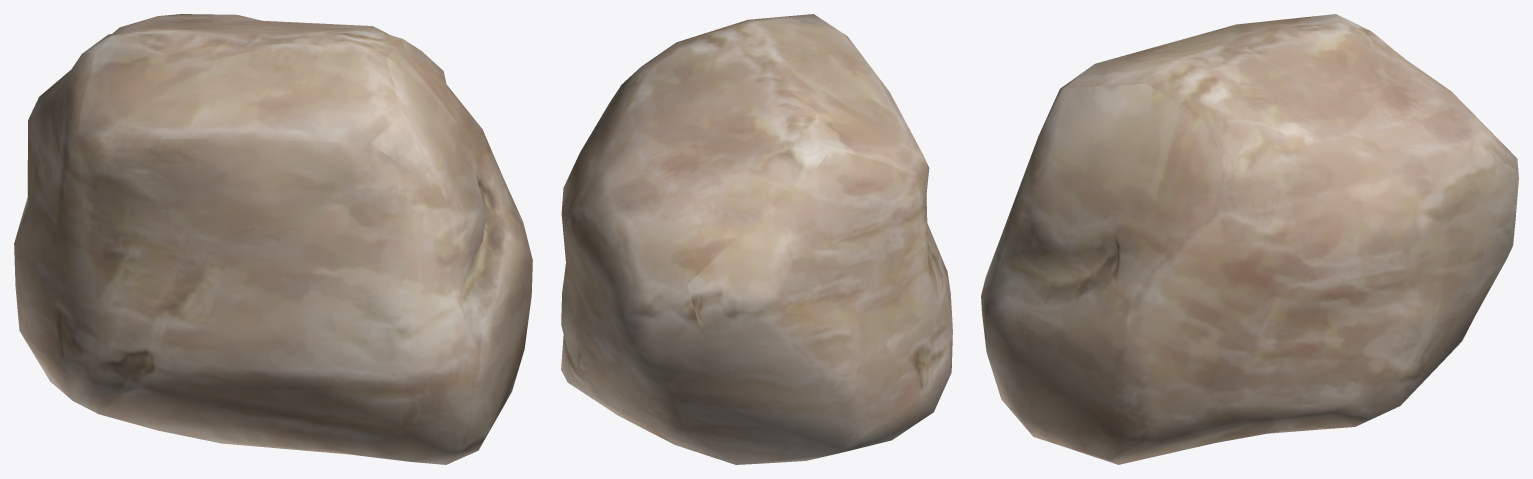
The model's file is Stone_01.FBX.
3 views of the same model, side by side, from view 1: azimuth 30°, elevation 25°; view 2: azimuth 150°, elevation 25°; view 3: azimuth 270°, elevation 25° (orthographic). The views are drawn at different scales.
Visible parts, largest first — view 1: Stone_01_LOD0; view 2: Stone_01_LOD0; view 3: Stone_01_LOD0.
Boxes of the visible parts, x1,y1,x2,y2 form: Stone_01_LOD0: (14,14,532,464); Stone_01_LOD0: (561,14,952,464); Stone_01_LOD0: (981,14,1518,464).
Size of what is drawn, in the model's own units: 0.6237 by 0.572 by 0.7691.
